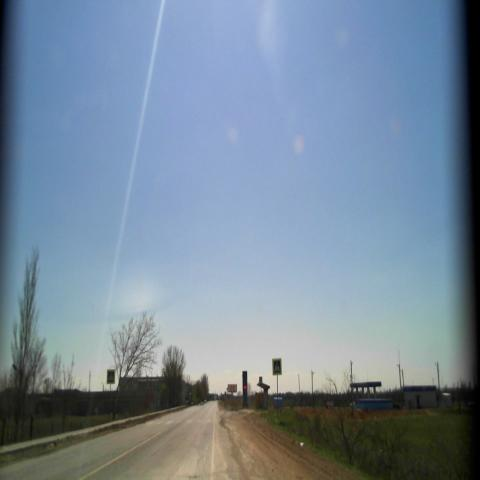5_19_1: (272, 358, 282, 374), (107, 369, 115, 383)
